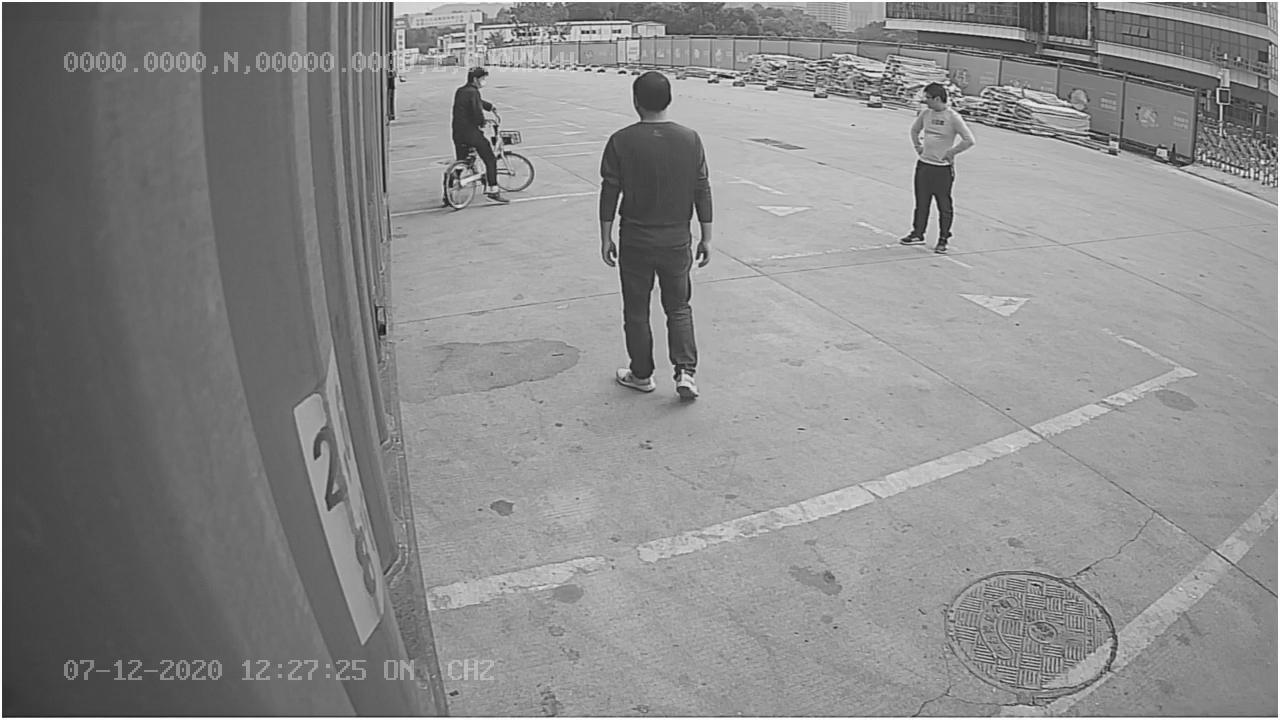person: (592, 71, 720, 406)
